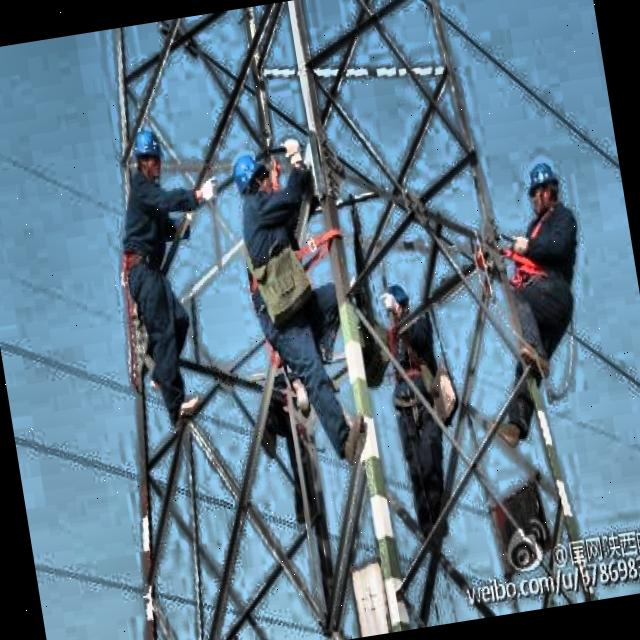helmet: (519, 153, 568, 222), (230, 148, 280, 211), (130, 124, 170, 184), (379, 282, 414, 334)
